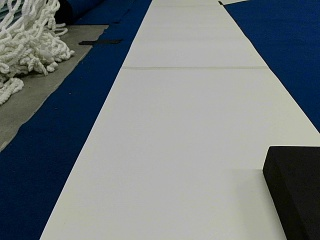block: (262, 146, 318, 239)
